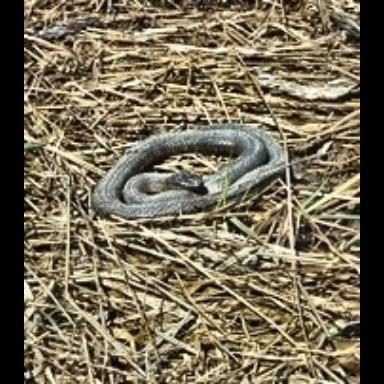snake: (92, 125, 289, 221)
